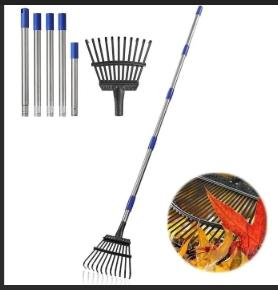RATEAU: (7, 7, 267, 290)
